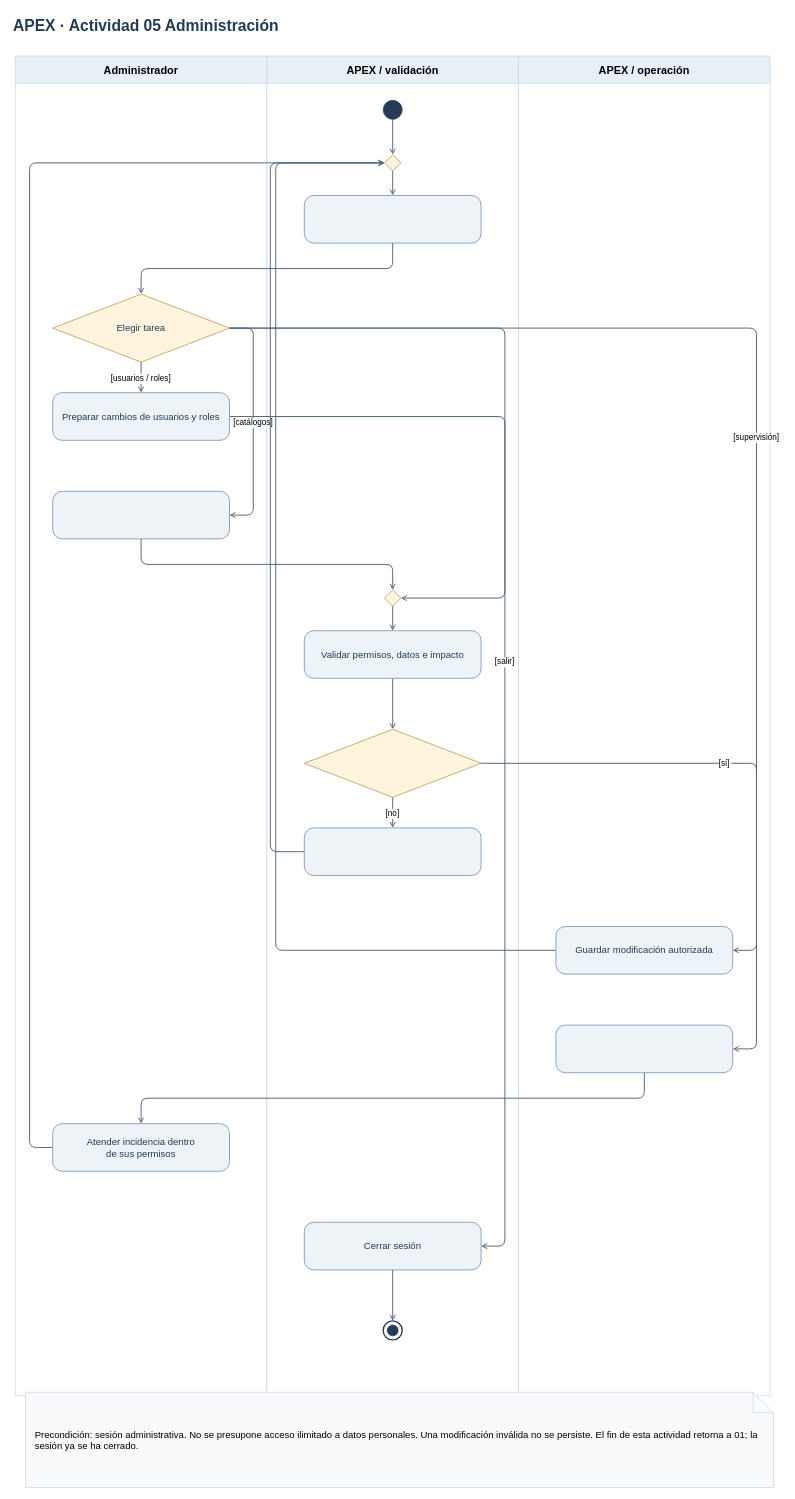
Some shapes in this 795 by 1499 pixel diagram are drawn without their labels. Each missing label, with the centre of its shape:
"Consultar estado de servicios e incidencias" goes at (644,1048).
"Mostrar errores sin aplicar cambios" goes at (392,851).
"Mostrar panel administrativo" goes at (392,219).
"Preparar cambios de competencias y catálogos" goes at (141,515).
"¿Cambio válido?" goes at (392,763).
